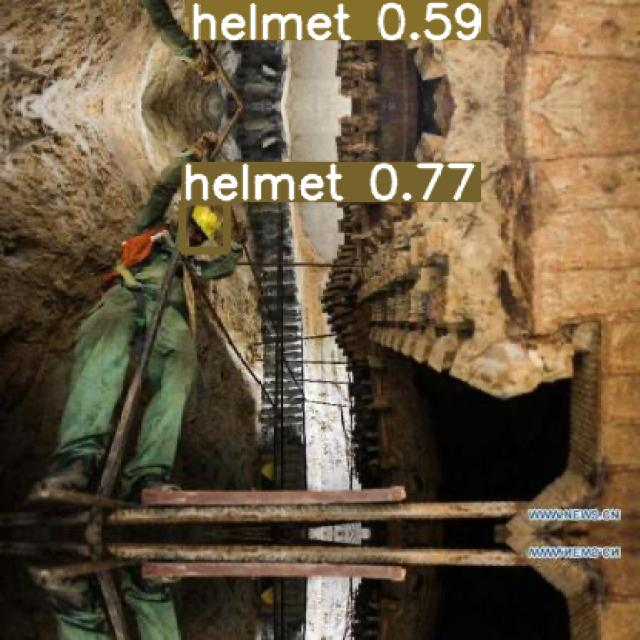helmet: (182, 200, 226, 250), (189, 0, 217, 11)
